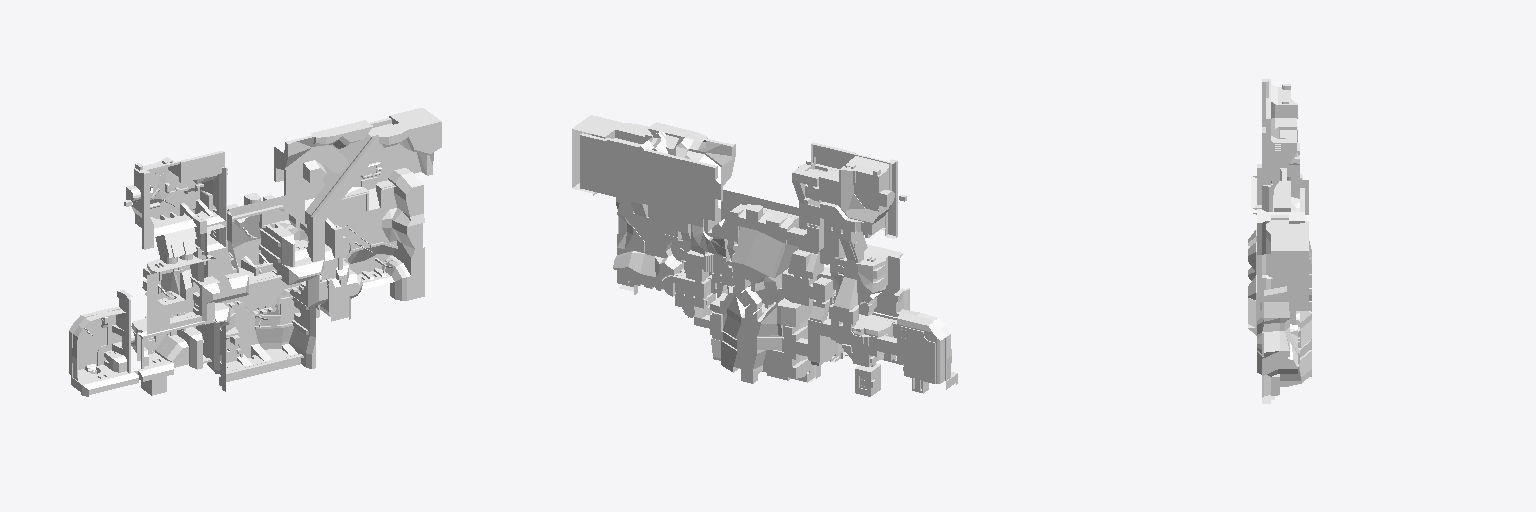
Rendered from Piranesi.obj.
3 renders of one model, left to right at view 1: azimuth 30°, elevation 25°; view 2: azimuth 150°, elevation 25°; view 3: azimuth 270°, elevation 25°, orthographic.
Parts seen in each view (by area): view 1: BSP_Object.model_0.012, BSP_Object.model_2.012; view 2: BSP_Object.model_0.012, BSP_Object.model_2.012; view 3: BSP_Object.model_0.012.
Boxes of the visible parts, <box> form: BSP_Object.model_0.012: <box>69,108,441,396</box>; BSP_Object.model_2.012: <box>284,123,421,199</box>; BSP_Object.model_0.012: <box>572,115,957,396</box>; BSP_Object.model_2.012: <box>580,133,717,220</box>; BSP_Object.model_0.012: <box>1248,79,1311,403</box>.
Bounding box in the file's own units: 148 × 92 × 22.4.